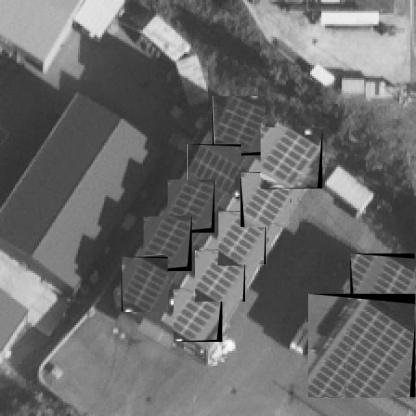solar-pv-panel: (308, 299, 415, 397), (355, 256, 415, 318), (261, 127, 321, 188), (214, 96, 265, 154), (195, 250, 245, 302), (188, 145, 241, 194), (218, 212, 266, 265), (144, 216, 191, 269), (243, 173, 289, 227), (174, 289, 221, 341), (168, 179, 214, 231), (123, 258, 168, 311)
